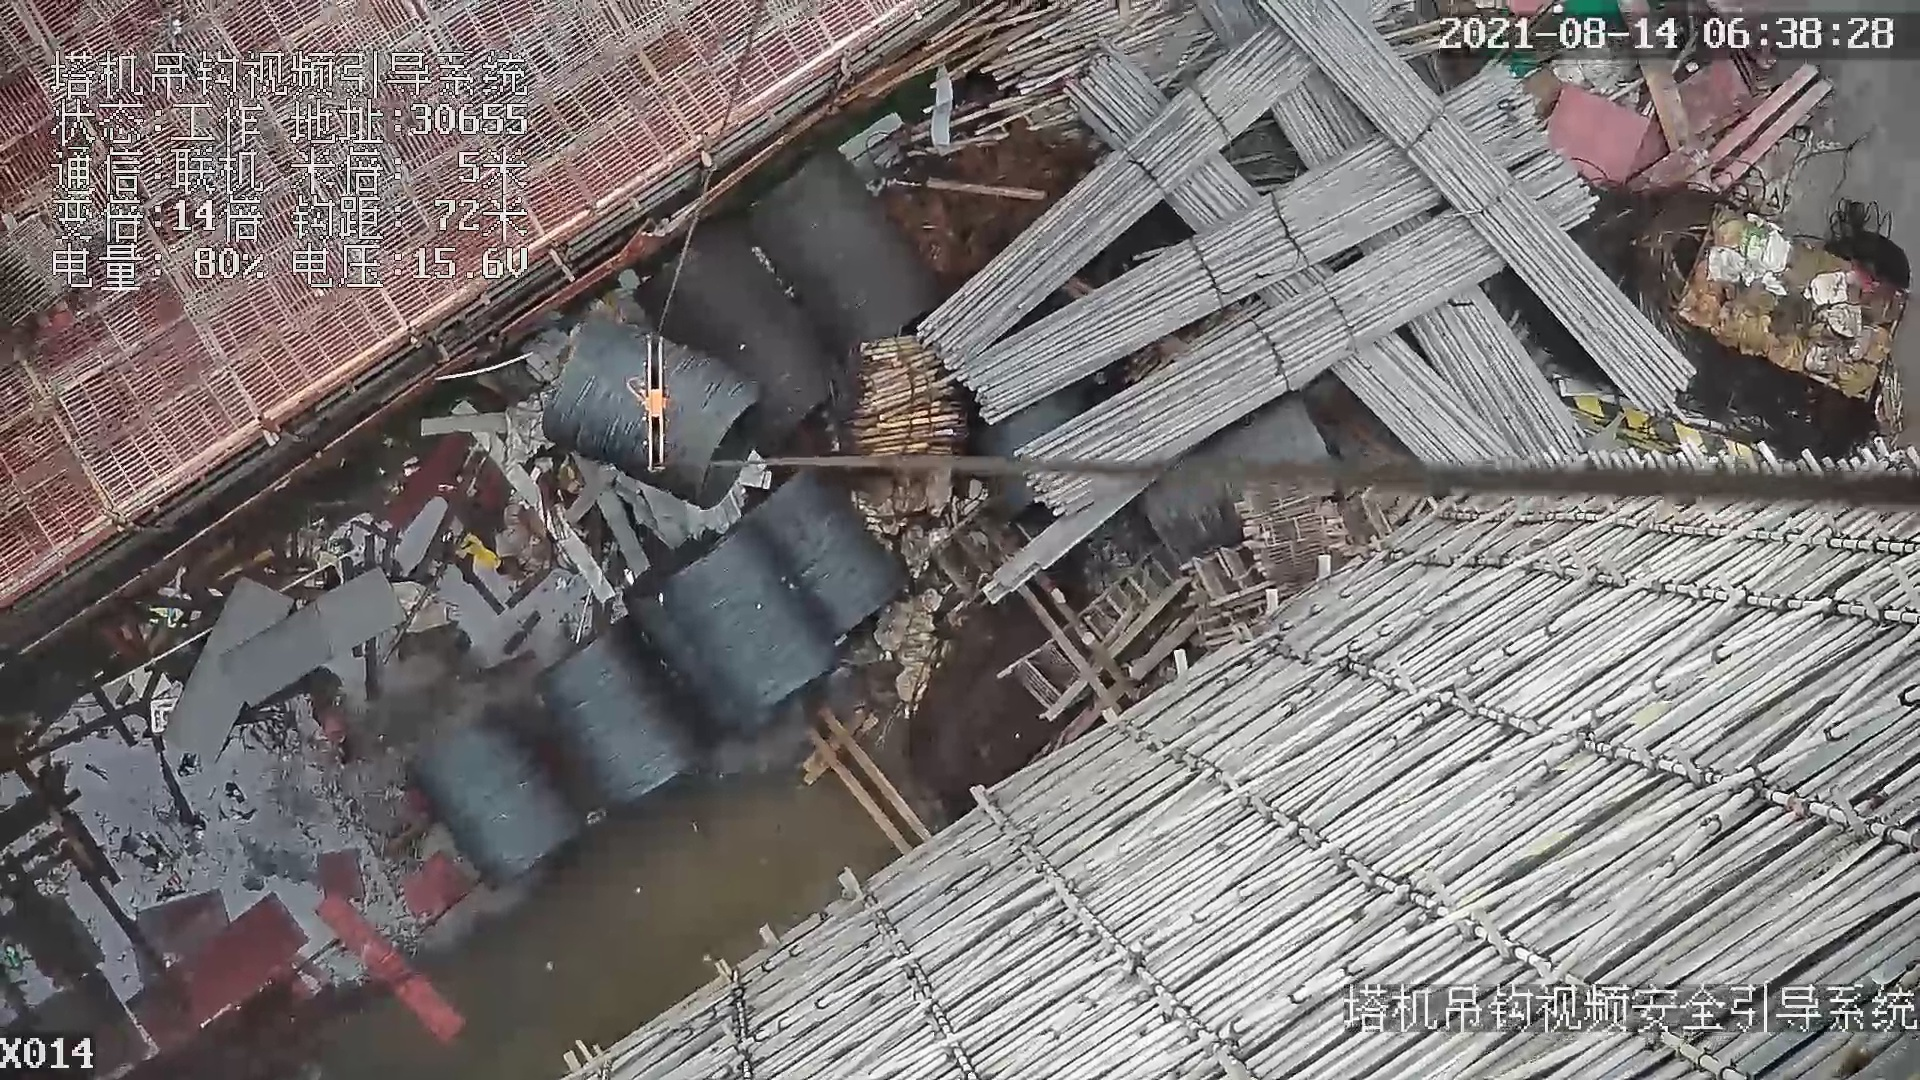hook: (624, 327, 679, 472)
